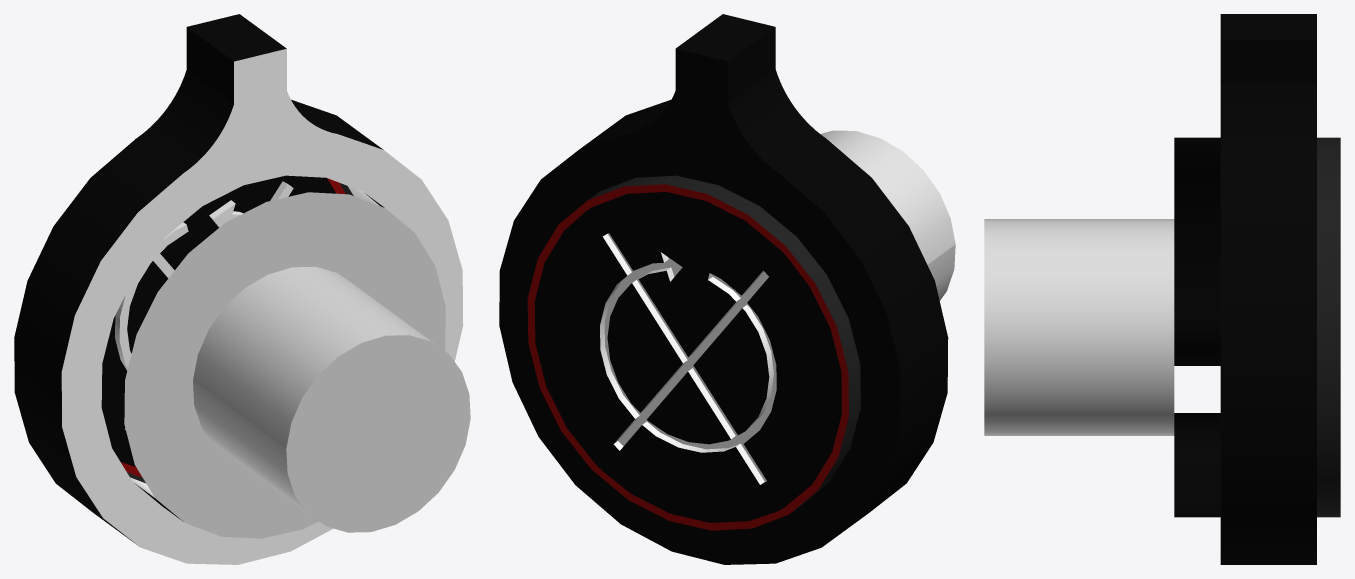
Rendered from con2.fbx.
The picture shows the model from 3 angles, left to right: view 1: azimuth 30°, elevation 25°; view 2: azimuth 150°, elevation 25°; view 3: azimuth 270°, elevation 25°; orthographic projection.
Visible parts, largest first — view 1: Model; view 2: Model; view 3: Model.
Part boxes in pixels (<box>): Model: <box>14,14,470,564</box>; Model: <box>499,14,955,564</box>; Model: <box>984,14,1340,564</box>.
Size of the model in its own units: 174 by 208 by 131.
